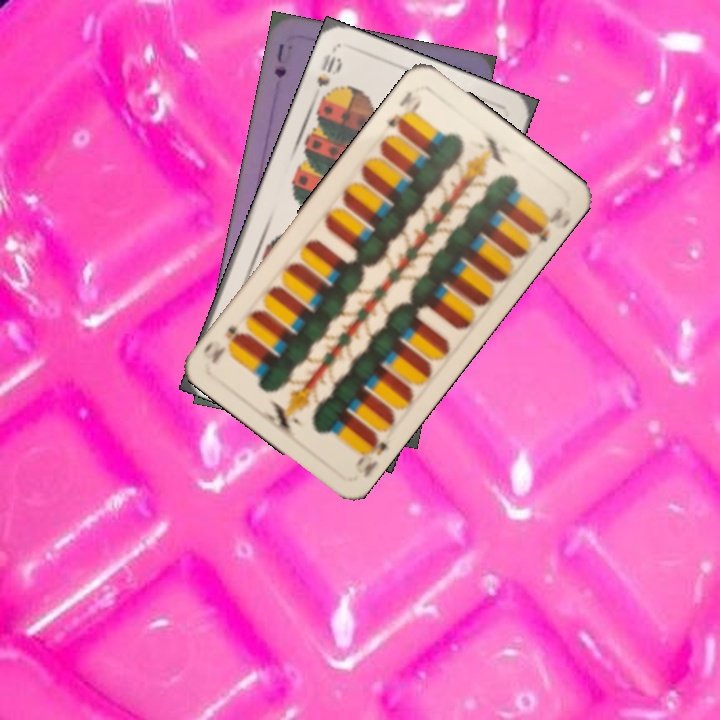E10: (351, 428, 392, 480), (382, 87, 425, 135)
S10: (312, 49, 345, 90)
SU: (270, 39, 289, 81)
